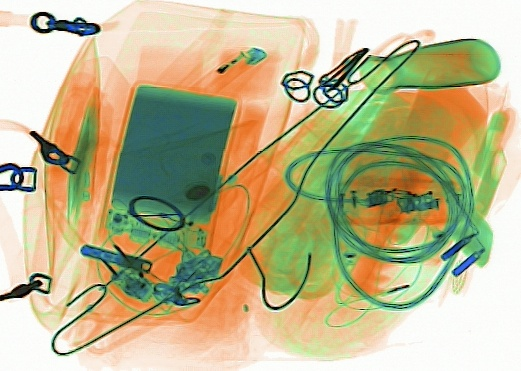lighter: (186, 41, 264, 101)
